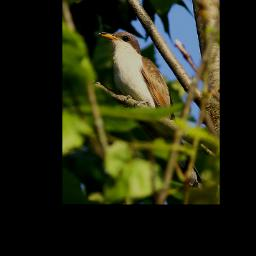Cuckoo: (95, 27, 206, 192)
